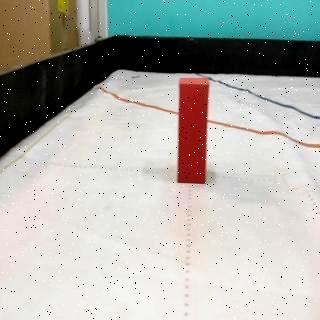redbox: (178, 76, 209, 185)
